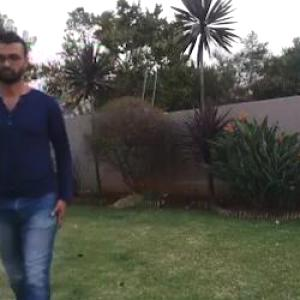follow: (1, 46, 72, 299)
